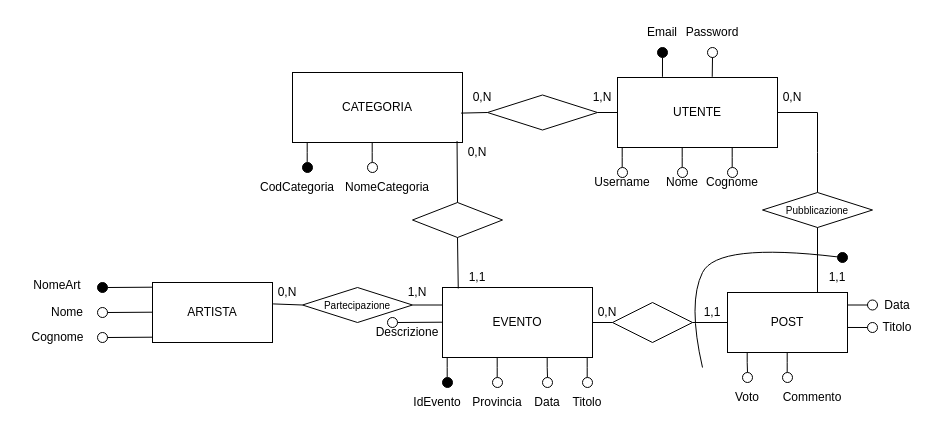
Image size: 944x434. Some labels were removed from this diagram. The shapes that lost their labels are listed below. From the top down, each one's centre as x and y in pixels, then its label:
At (542,112): "Selezionamento".
At (457,220): "Tipologia".
At (652,322): "Recensione".
